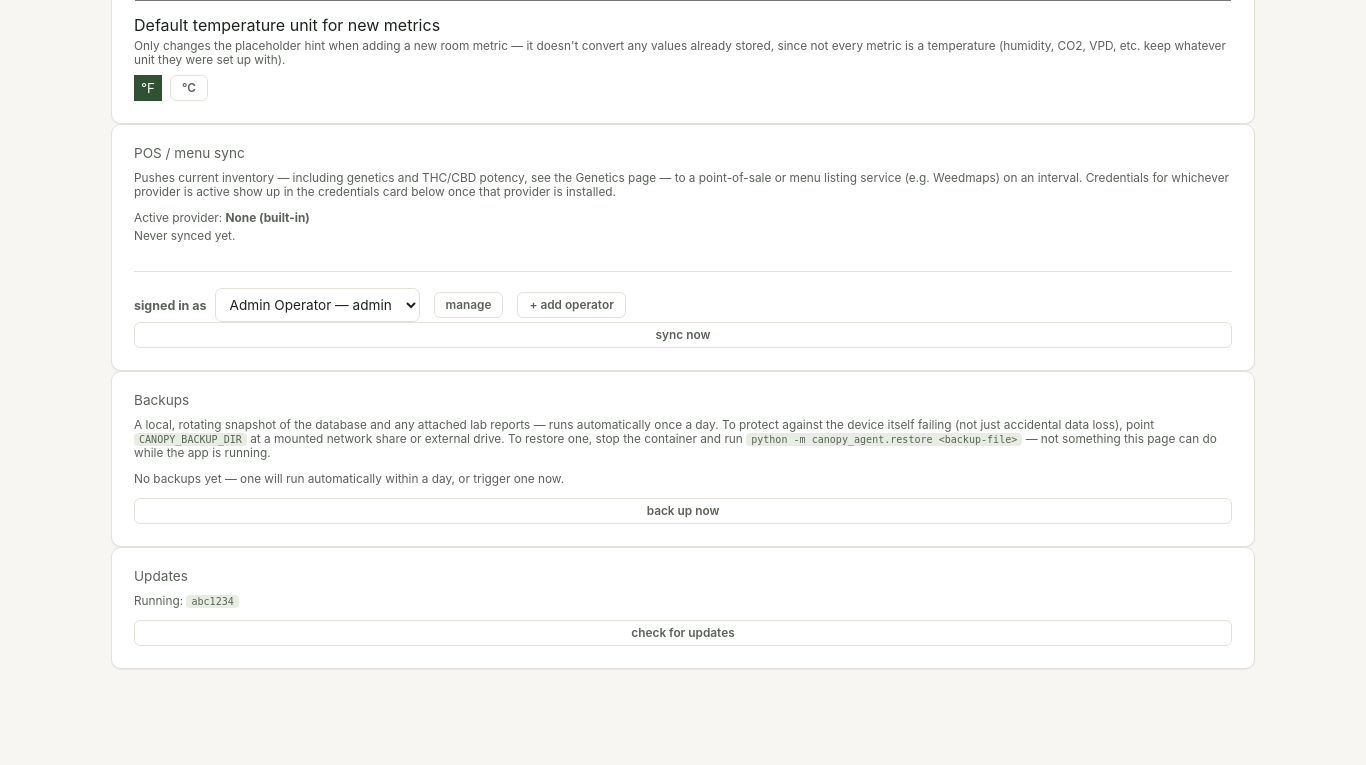
Test: Settings › updates › shows the reason when a check can't be completed
(page scrolled)
Expected: the text "abc1234" is shown, [186,595,239,608]
Click the button "check for updates" at (683, 633), box [134,620,1232,646]
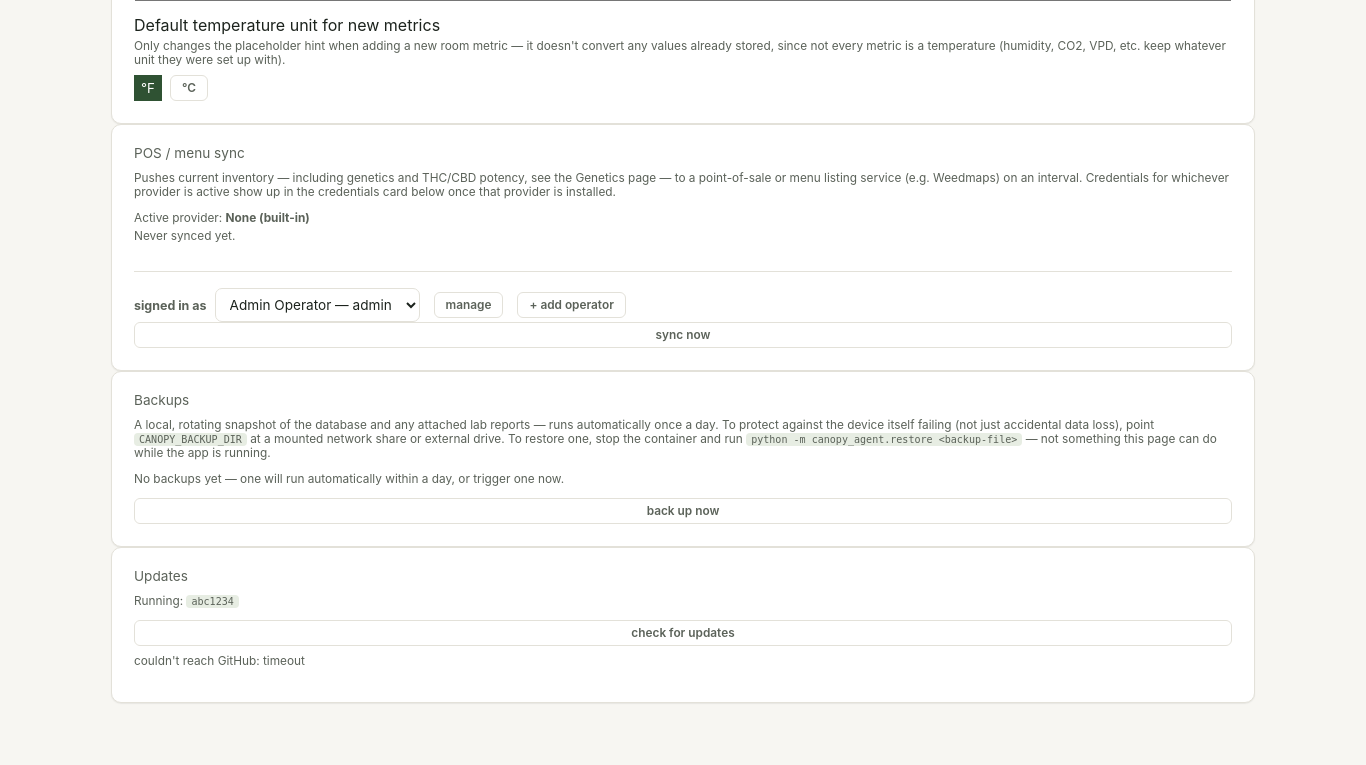
Expected: the text "couldn't reach GitHub: timeout" is shown, [134,654,305,668]
